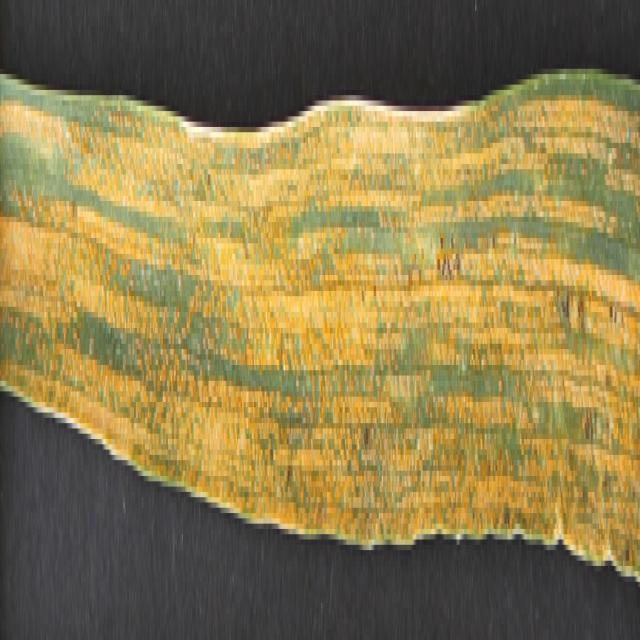leaf rust: (0, 79, 640, 571)
